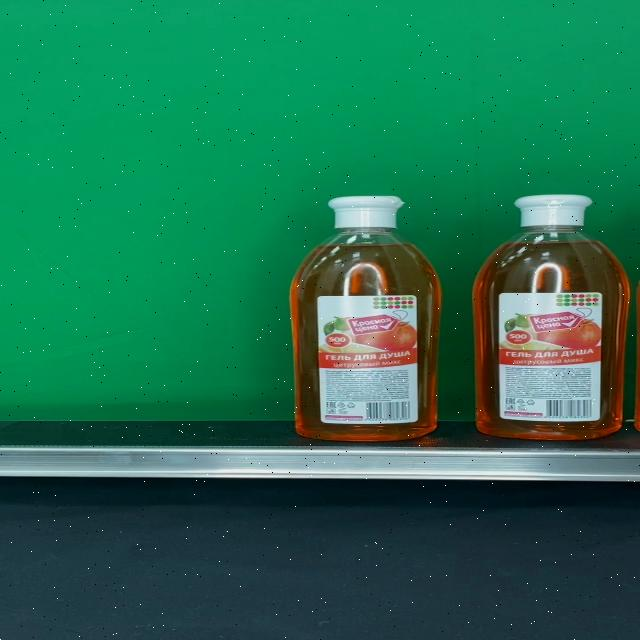Bottle: (474, 193, 630, 439), (289, 194, 441, 441)
Cap: (513, 194, 594, 227), (326, 195, 404, 229)
